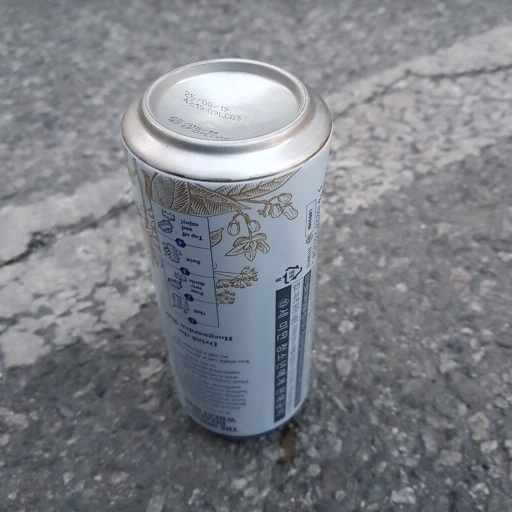Metal_0: (119, 57, 334, 438)
